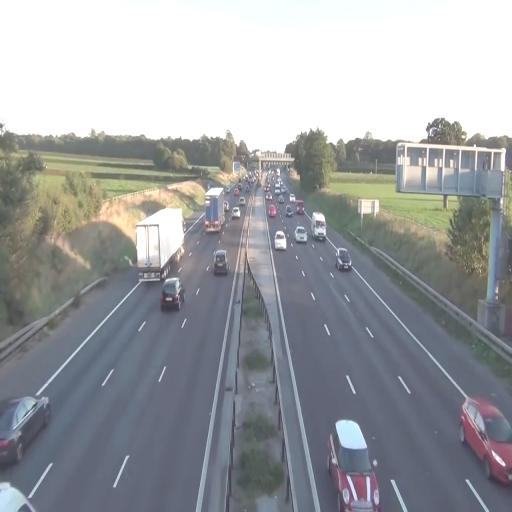vehicle: (327, 418, 381, 511), (460, 395, 512, 487), (0, 394, 52, 467), (136, 207, 184, 284), (0, 481, 35, 512), (204, 188, 224, 234), (160, 277, 182, 310), (336, 246, 352, 273), (311, 211, 326, 239), (312, 212, 326, 240), (214, 250, 228, 275), (274, 228, 287, 250), (294, 226, 308, 244), (232, 204, 242, 219)
